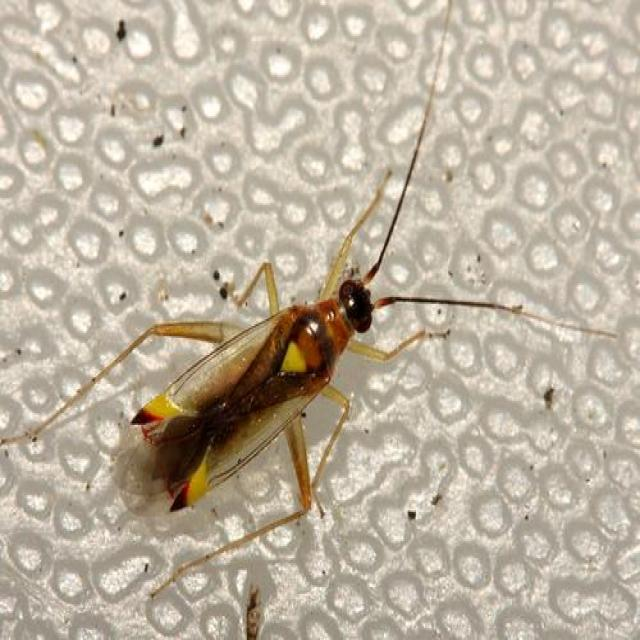Miridae-Adult-: (67, 49, 546, 568)
